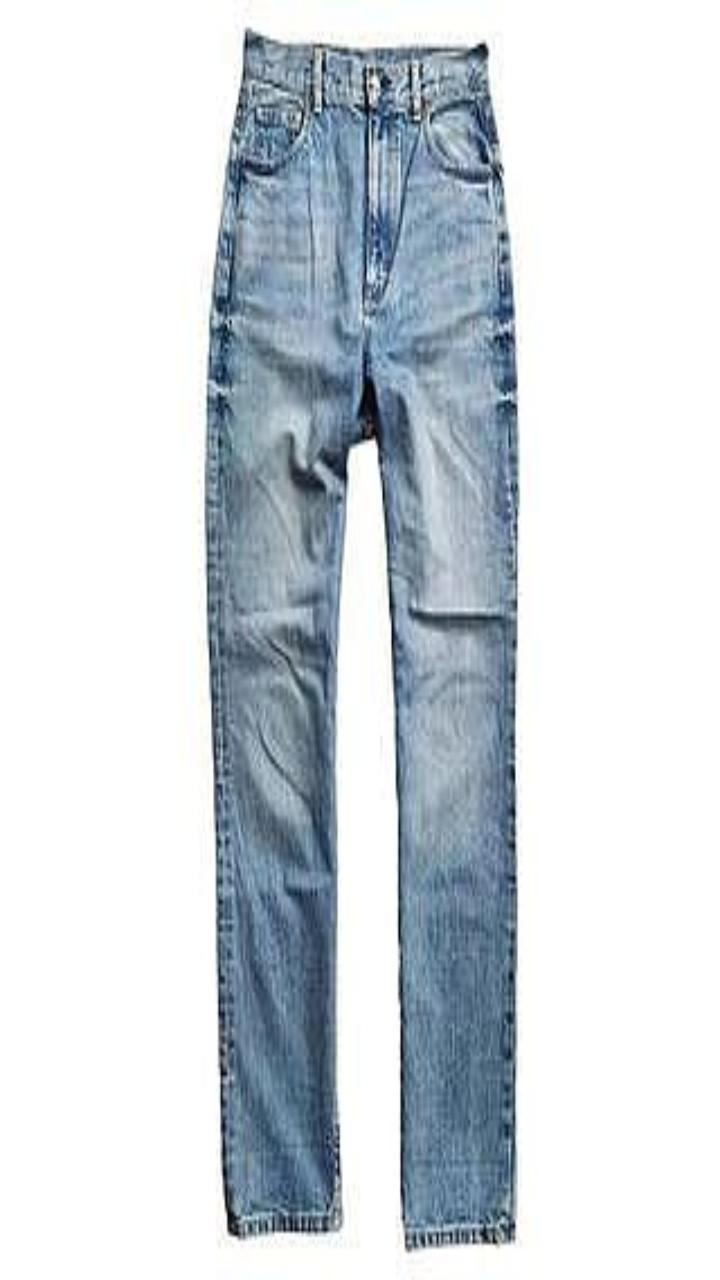Jeans: (206, 31, 517, 1247)
